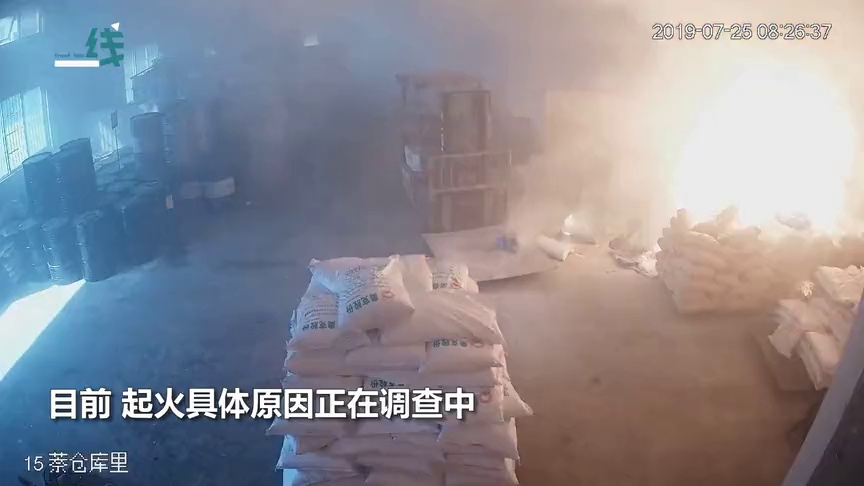fire: (623, 54, 839, 218)
